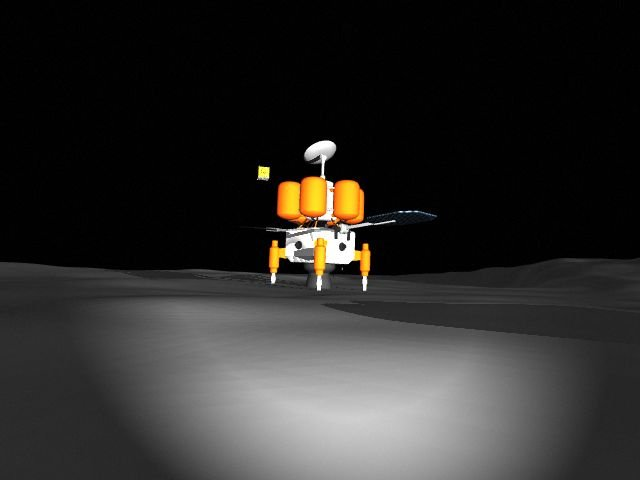cubesat: (250, 163, 273, 183)
